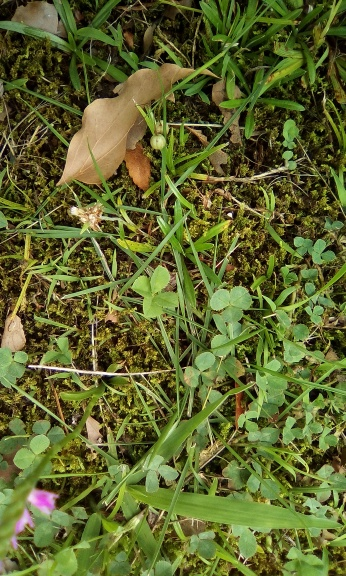4leaf: (131, 265, 179, 319)
